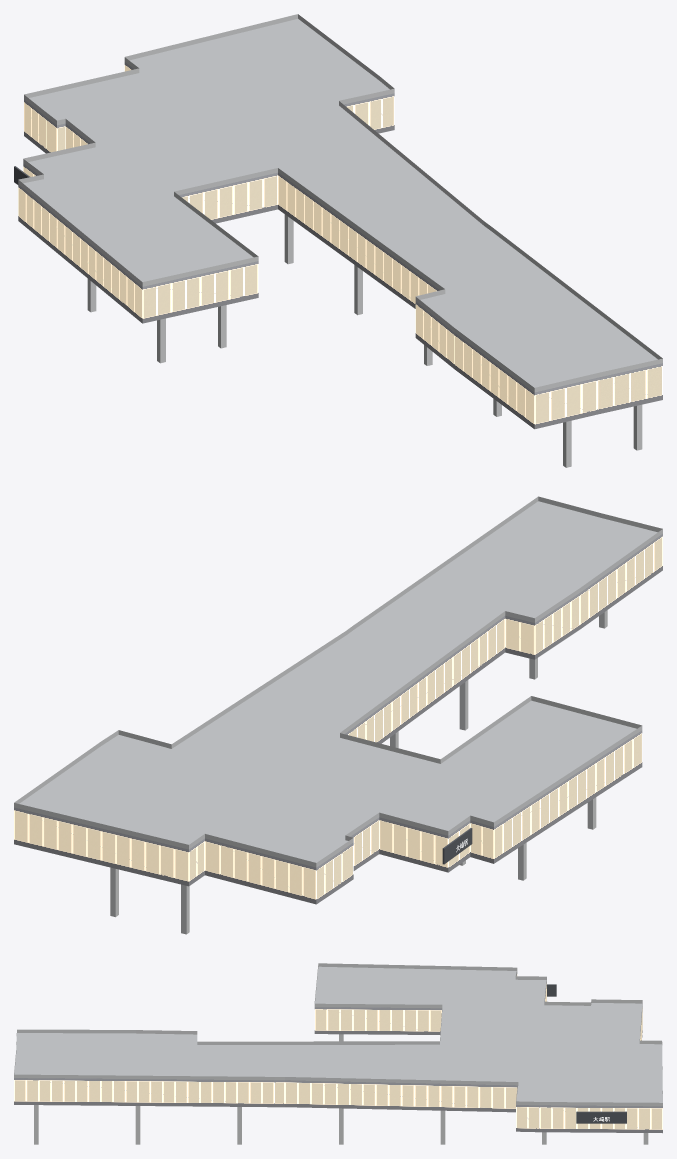
Rendered from osaki_station.glb.
The picture shows the model from 3 angles, top to bottom: view 1: azimuth 30°, elevation 25°; view 2: azimuth 150°, elevation 25°; view 3: azimuth 270°, elevation 25°; orthographic projection. The views are drawn at different scales.
Visible parts, largest first — view 1: OS_Station; view 2: OS_Station; view 3: OS_Station.
Boxes of the visible parts, bbox=[...] form: OS_Station: bbox=[14, 14, 662, 467]; OS_Station: bbox=[14, 496, 662, 934]; OS_Station: bbox=[14, 963, 662, 1144].
Bounding box in the file's own units: 78.41 × 18.9 × 153.
6 materials, 1 textured.
